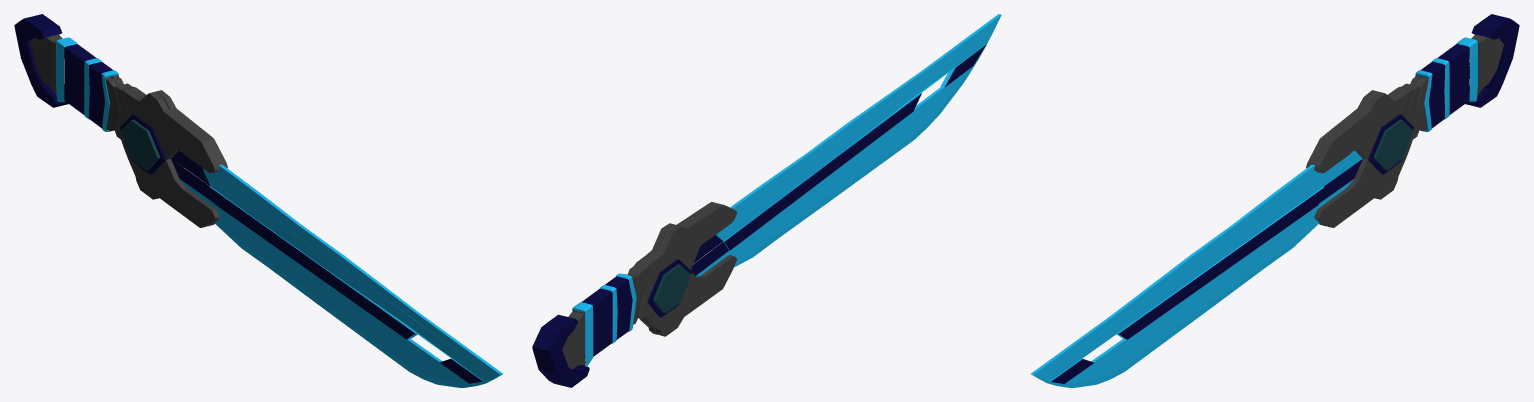
The model's file is w_SCI-FI_Sword.glb.
3 views of the same model, side by side, from view 1: azimuth 30°, elevation 25°; view 2: azimuth 150°, elevation 25°; view 3: azimuth 330°, elevation 25° (orthographic). The views are drawn at different scales.
Parts seen in each view (by area): view 1: Cube.021; view 2: Cube.021; view 3: Cube.021.
Boxes of the visible parts, x1,y1,x2,y2 form: Cube.021: (14,14,502,387); Cube.021: (532,14,1001,387); Cube.021: (1031,14,1519,387).
Size of the model in its own units: 0.124 by 0.544 by 4.56.
